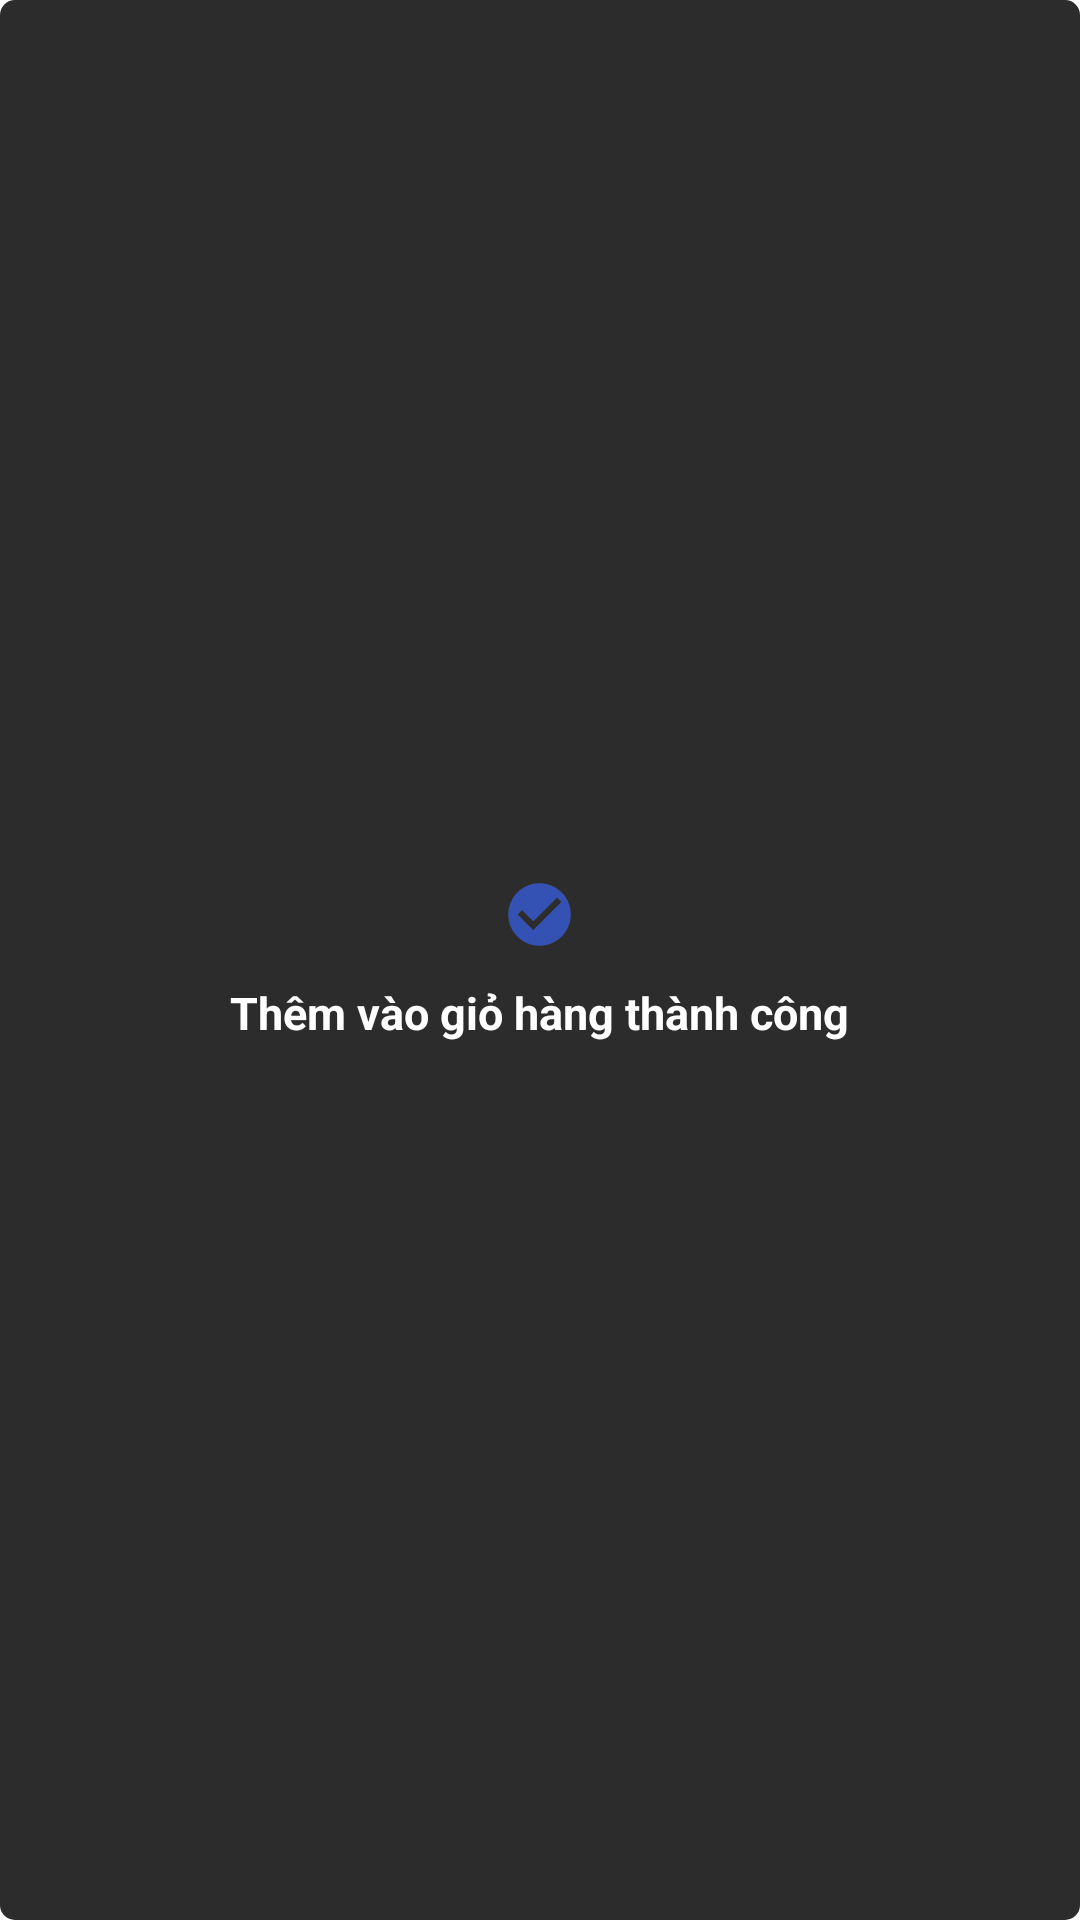

Point at icon controls on the screen. Image size 1080×1920, points as [x,y].
check circle: [539,914]
